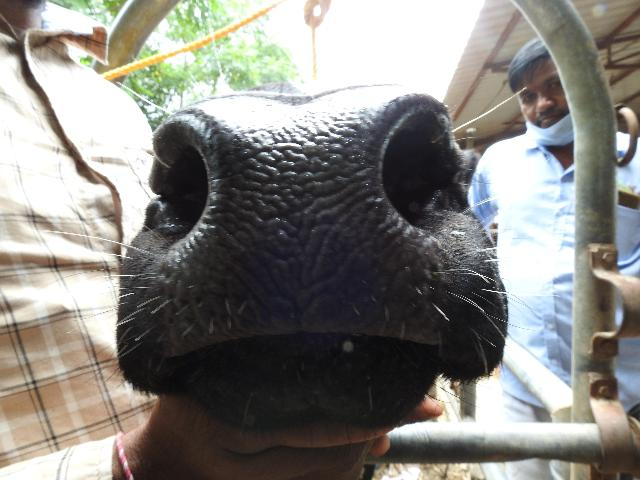Muzzle: (208, 110, 388, 322)
